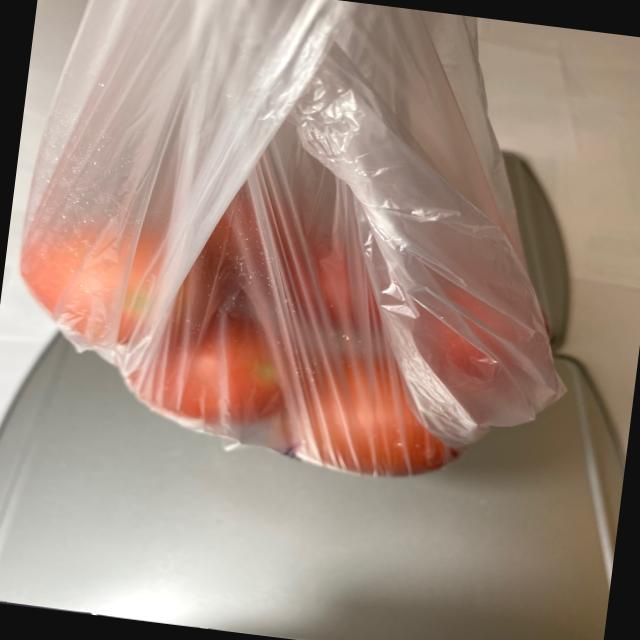tomato: (8, 164, 574, 498)
